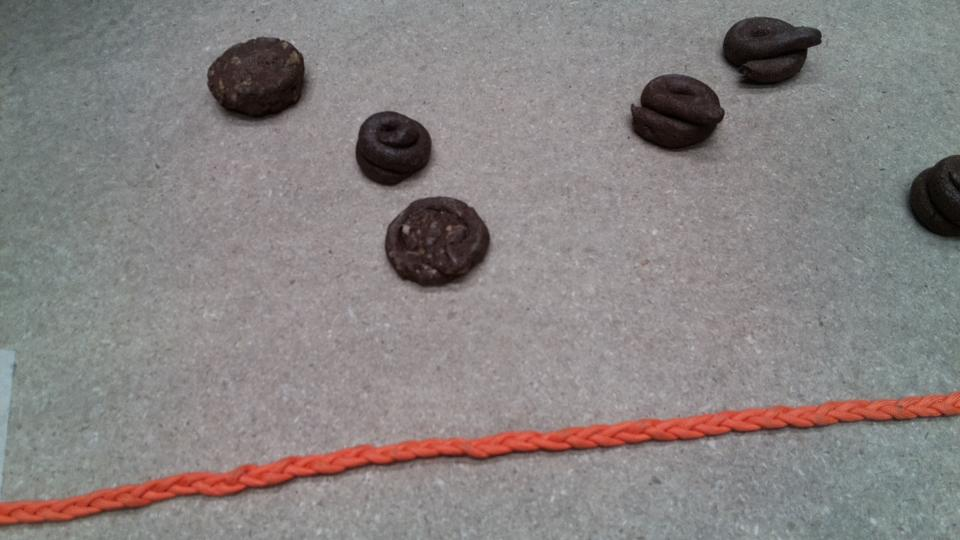poop: (376, 196, 496, 288), (202, 34, 314, 124), (622, 66, 727, 158), (718, 12, 828, 94), (351, 108, 440, 191), (903, 147, 960, 234)
rope: (448, 410, 784, 472), (3, 465, 322, 528), (240, 438, 517, 495), (730, 393, 960, 445)
